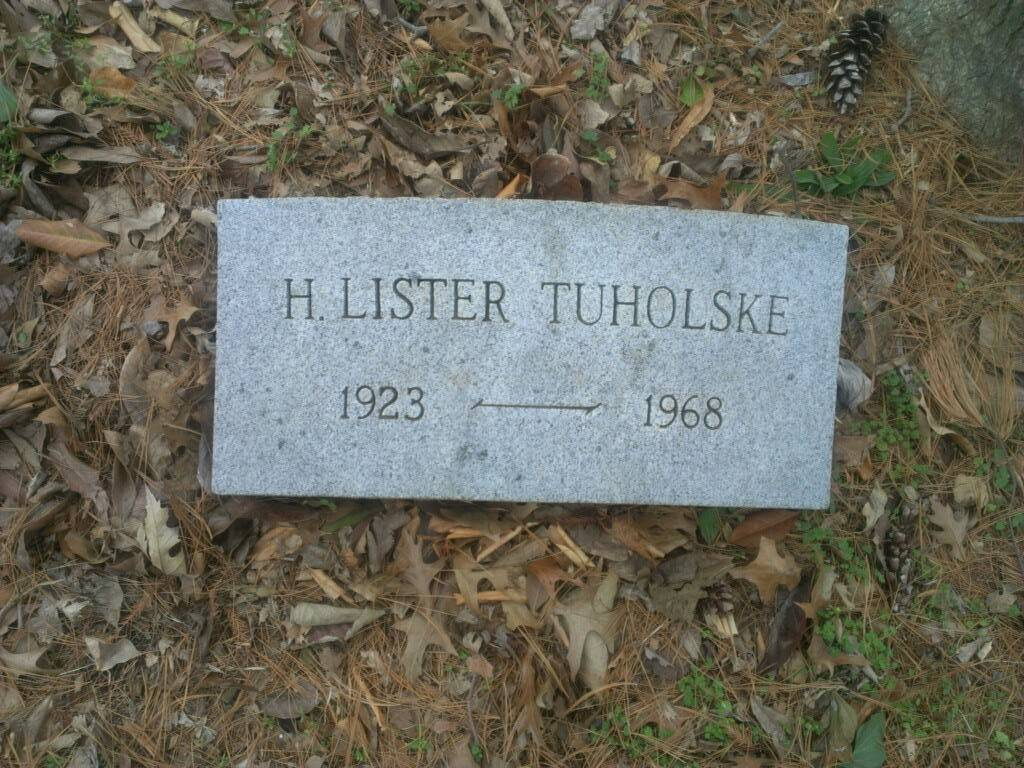flat: (208, 196, 850, 509)
